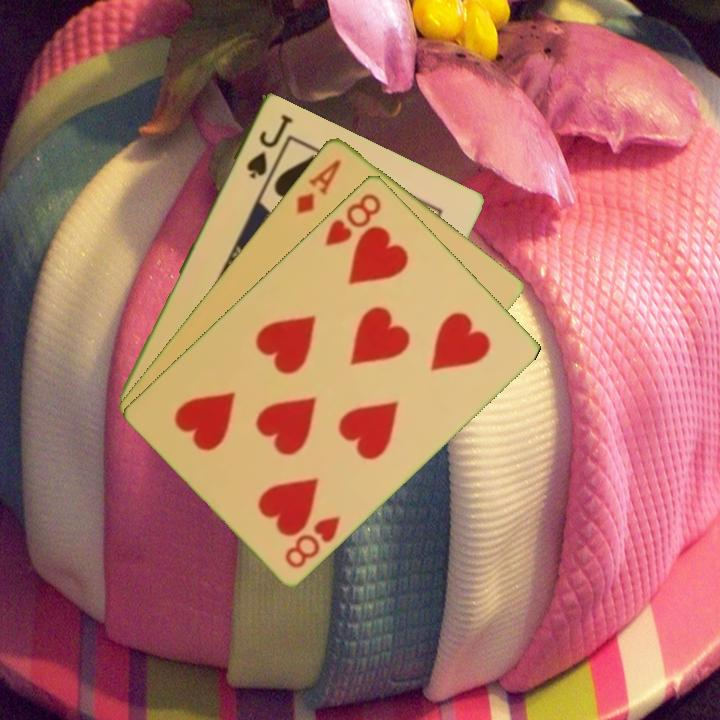8h: (321, 189, 384, 249), (281, 511, 343, 571)
Ad: (292, 155, 344, 217)
Js: (242, 110, 293, 181)
